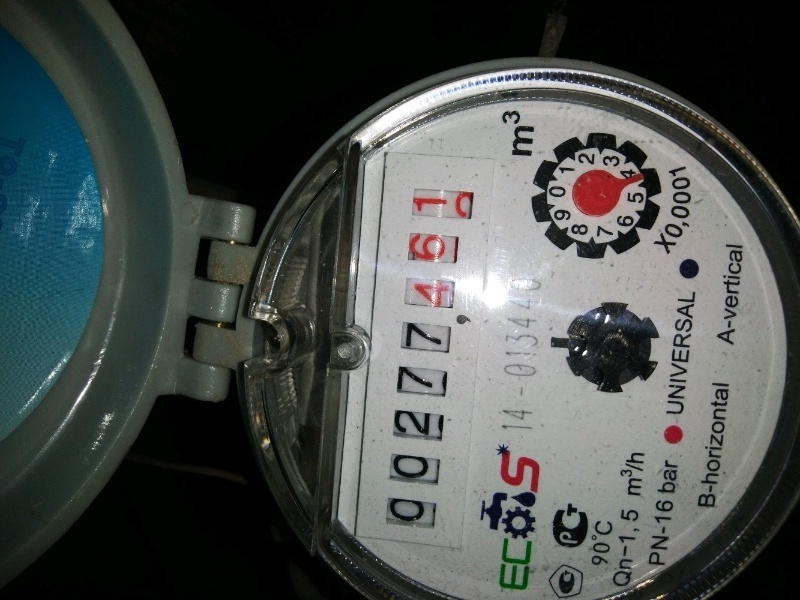meter: (364, 188, 462, 539)
